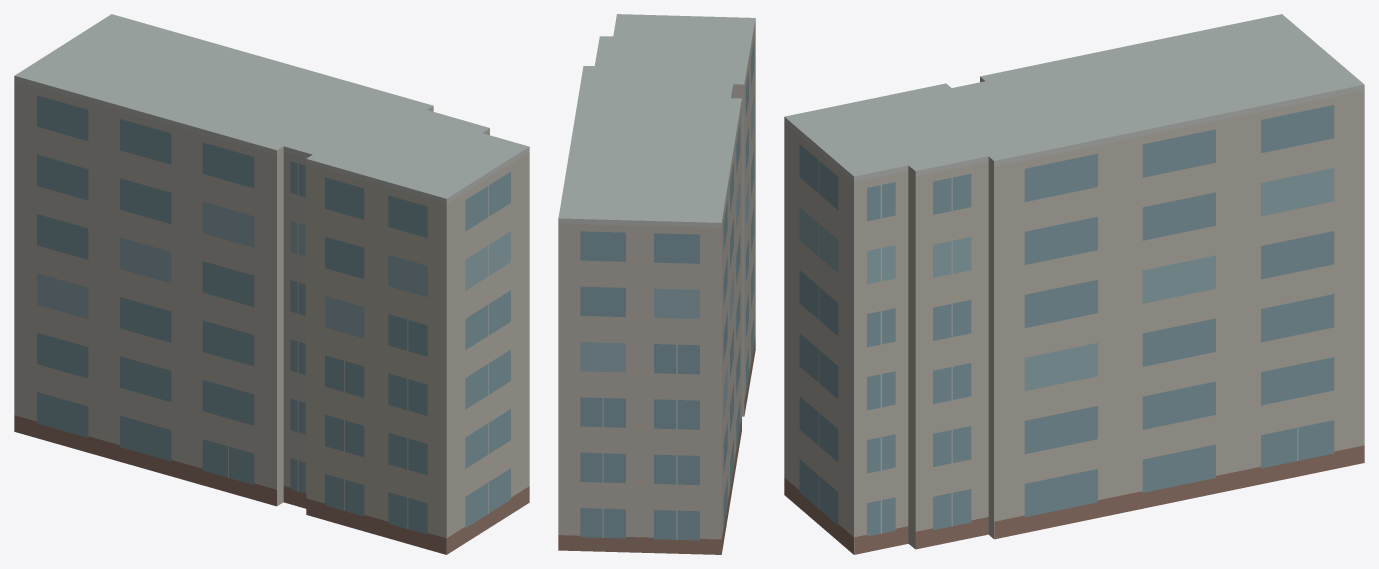
File: survey-upis-32740673.glb
3 views of the same model, side by side, from view 1: azimuth 30°, elevation 25°; view 2: azimuth 150°, elevation 25°; view 3: azimuth 270°, elevation 25° (orthographic). The views are drawn at different scales.
Visible parts, largest first — view 1: survey-upis-32740673.tmp; view 2: survey-upis-32740673.tmp; view 3: survey-upis-32740673.tmp.
Part boxes in pixels (bbox=[...]): survey-upis-32740673.tmp: bbox=[14, 14, 529, 554]; survey-upis-32740673.tmp: bbox=[558, 14, 755, 554]; survey-upis-32740673.tmp: bbox=[784, 14, 1364, 554].
Size of the model in its own units: 15.31 by 16.6 by 23.09.
